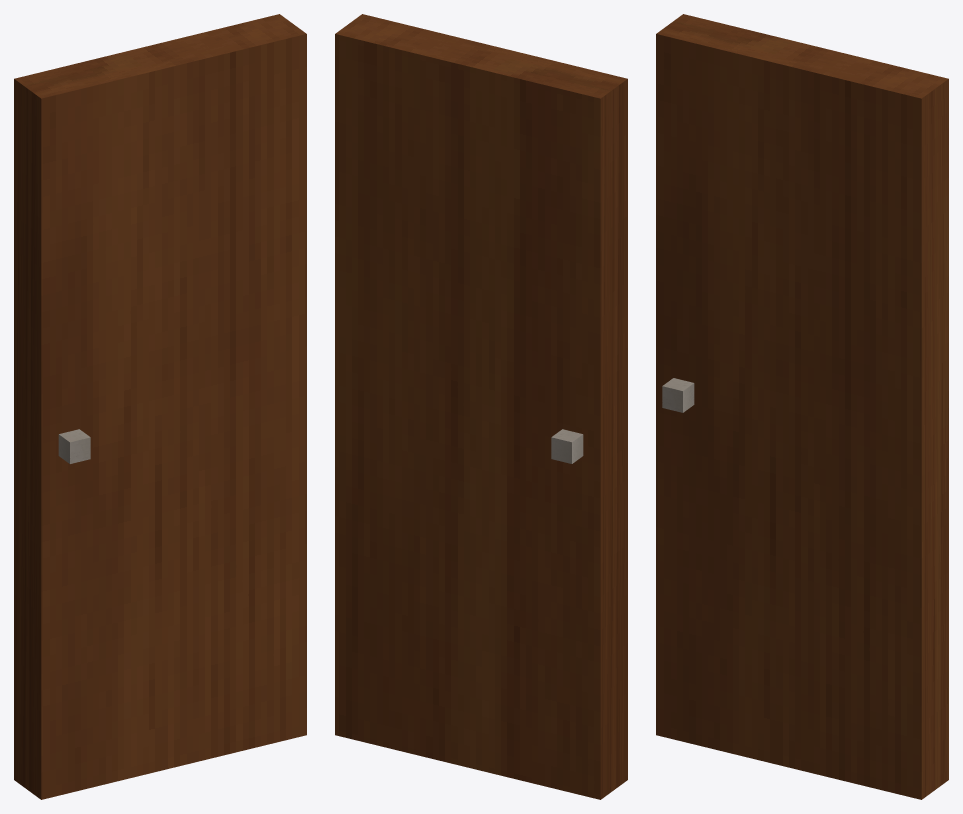
Rendered from Door.glb.
3 renders of one model, left to right at view 1: azimuth 30°, elevation 25°; view 2: azimuth 150°, elevation 25°; view 3: azimuth 330°, elevation 25°, orthographic.
Parts seen in each view (by area): view 1: Cube, Cube.001; view 2: Cube, Cube.002; view 3: Cube, Cube.001.
Part boxes in pixels (box(x1,y1,x2,y2)): Cube: box(14, 14, 306, 799); Cube.001: box(58, 429, 90, 463); Cube: box(335, 14, 627, 799); Cube.002: box(551, 429, 583, 463); Cube: box(656, 14, 948, 799); Cube.001: box(662, 378, 694, 412).
Size of the model in its own units: 1.77 by 4.47 by 0.5736.
Materials: 3 (3 with a texture image).
